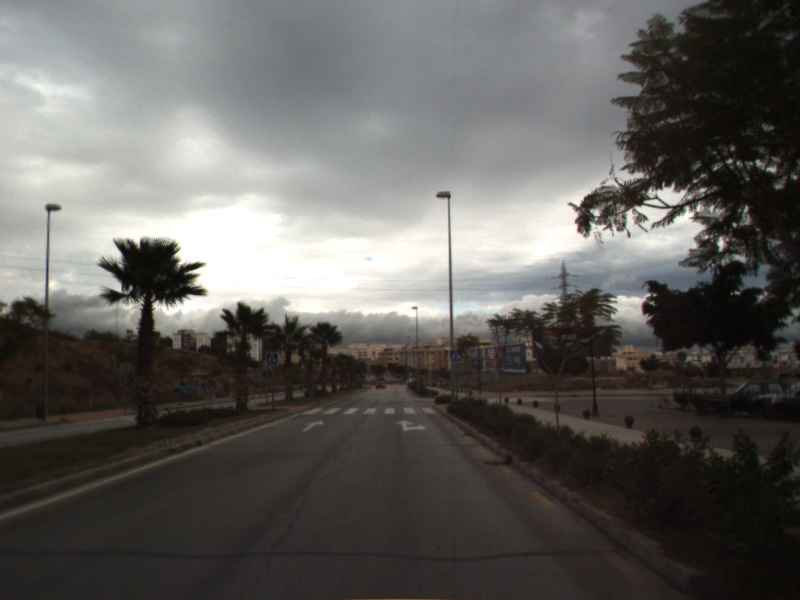STRAIGHT: (301, 418, 327, 433)
STRAIGHT_RIGHT: (393, 418, 429, 433)
